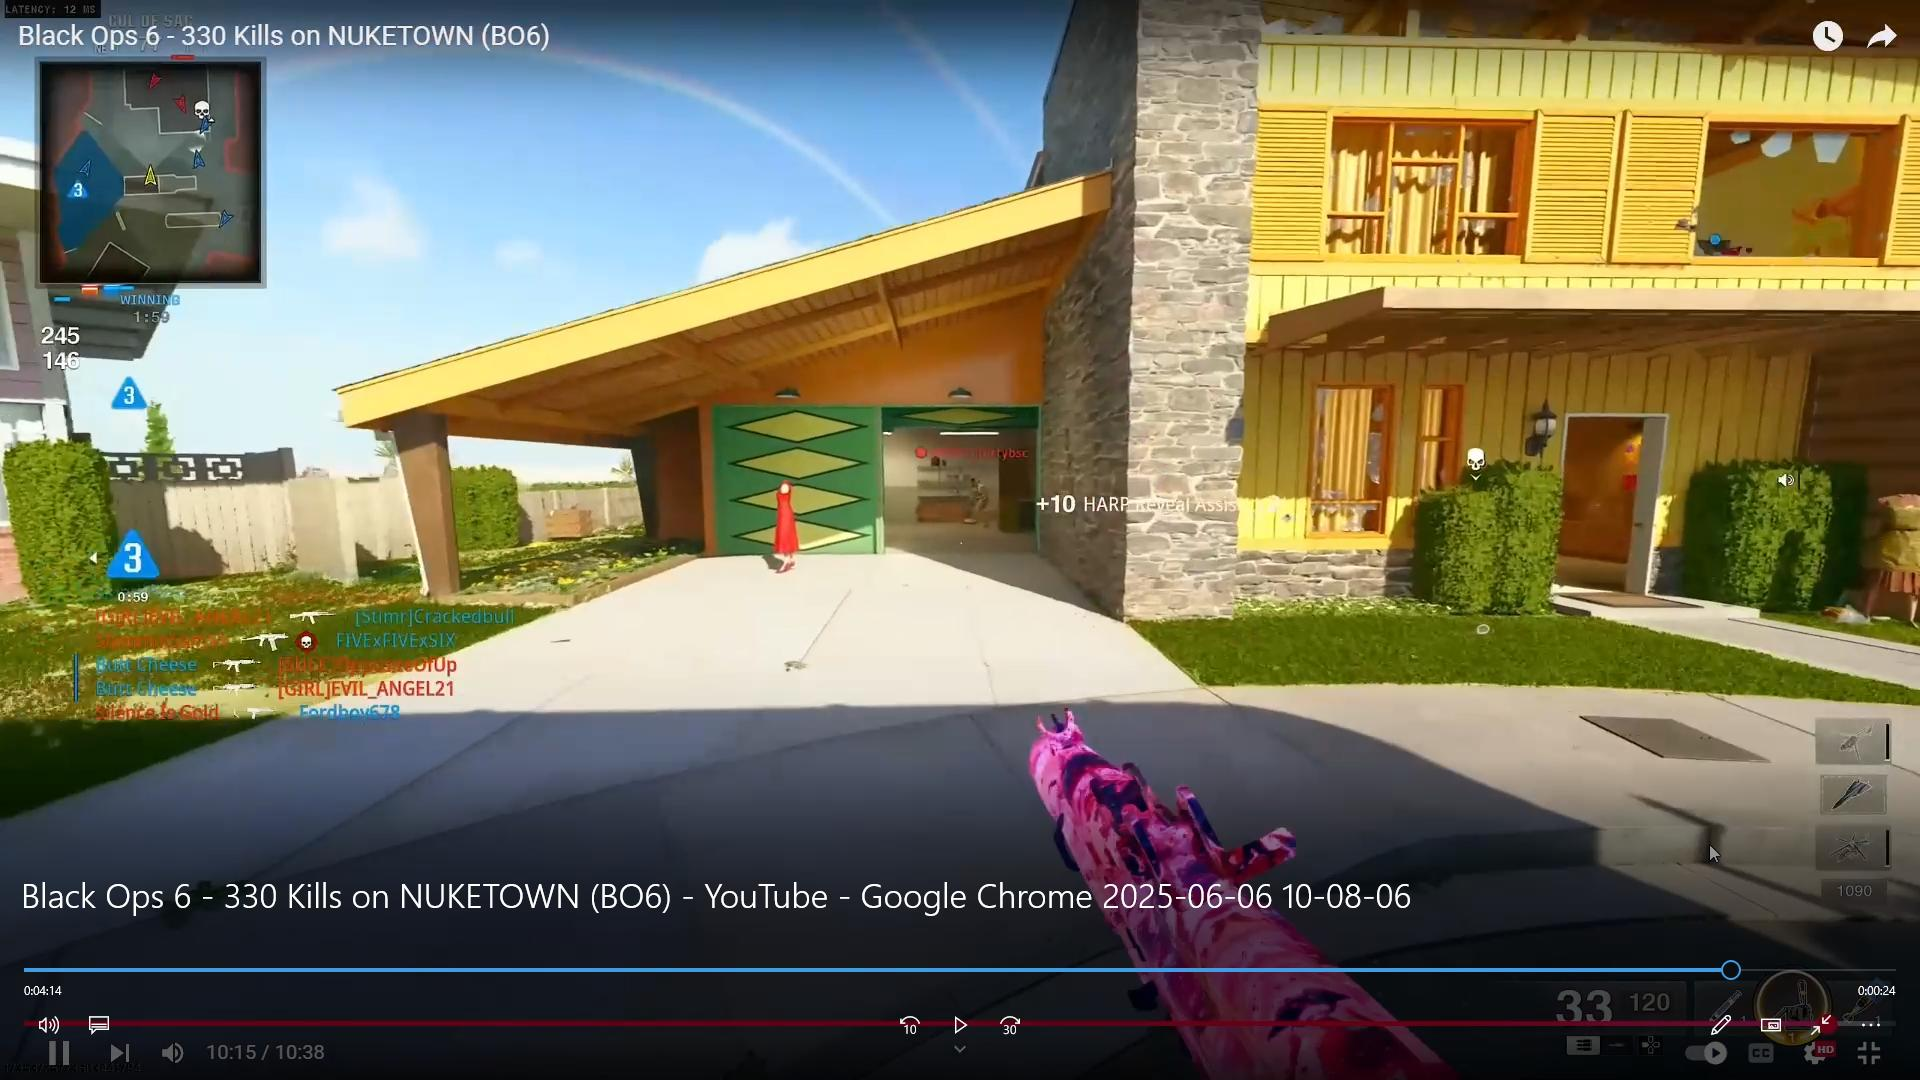Enemy: (961, 473, 996, 526)
